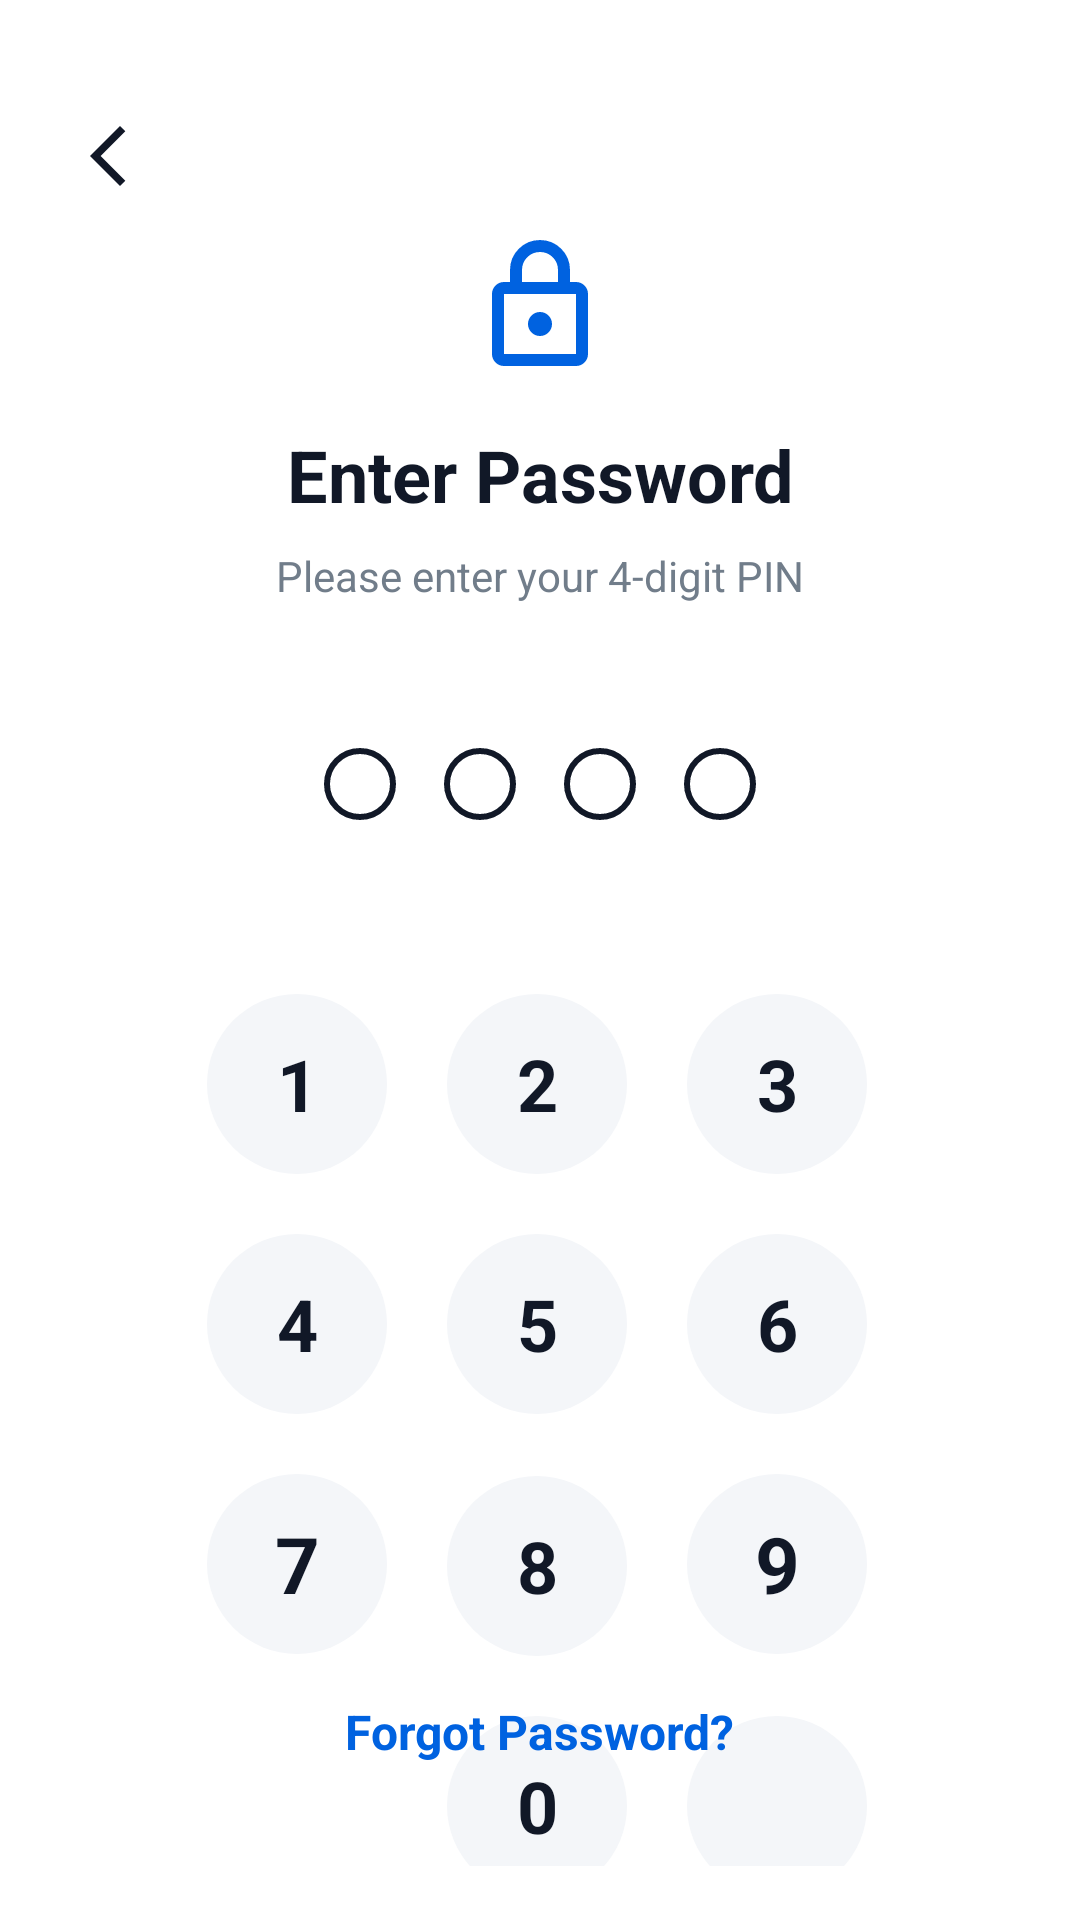

Point at icon controls on the screen. Image size 1080×1920, points as (x,y).
arrowback: (107,156)
lock: (540,303)
